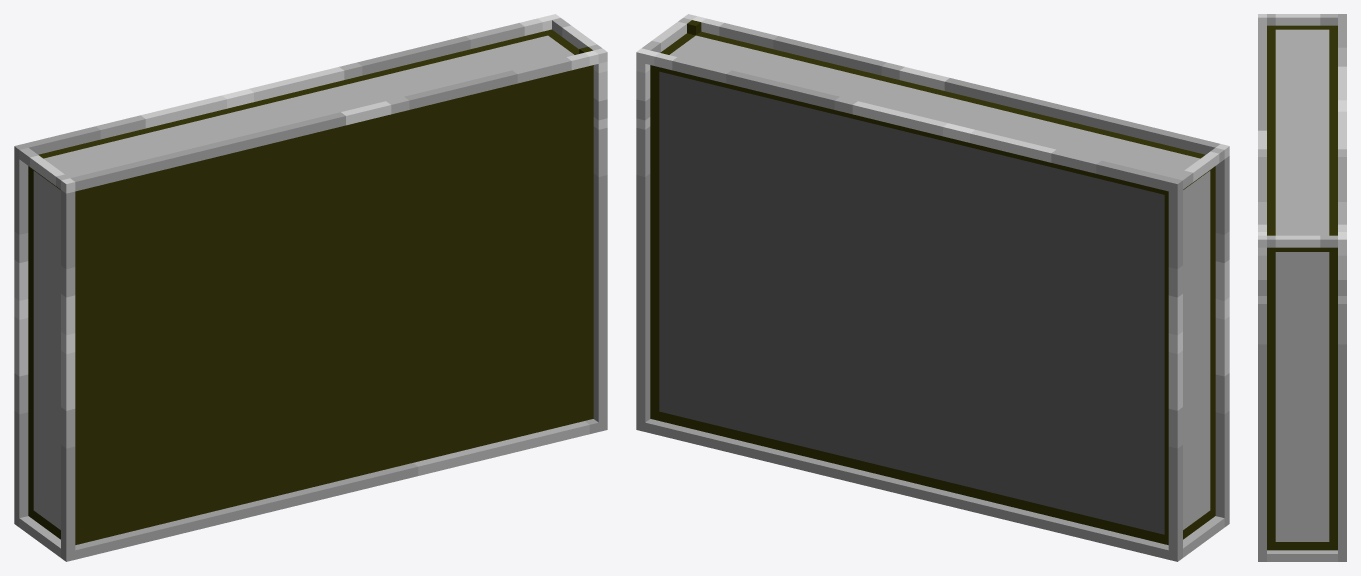
Rendered from Barraks Wall 6.obj.
The picture shows the model from 3 angles, left to right: view 1: azimuth 30°, elevation 25°; view 2: azimuth 150°, elevation 25°; view 3: azimuth 270°, elevation 25°; orthographic projection. The views are drawn at different scales.
Size of the model in its own units: 60 by 40 by 10.
Materials: 1 (1 with a texture image).
